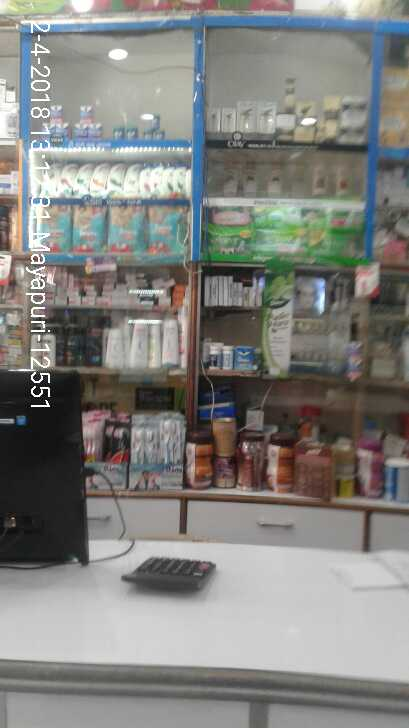vicks: (41, 99, 101, 139), (112, 109, 169, 141)
